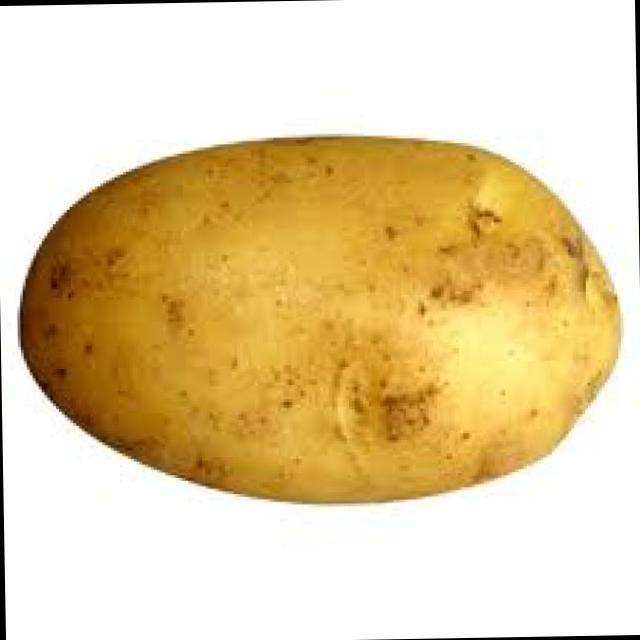Potato: (2, 105, 638, 538)
